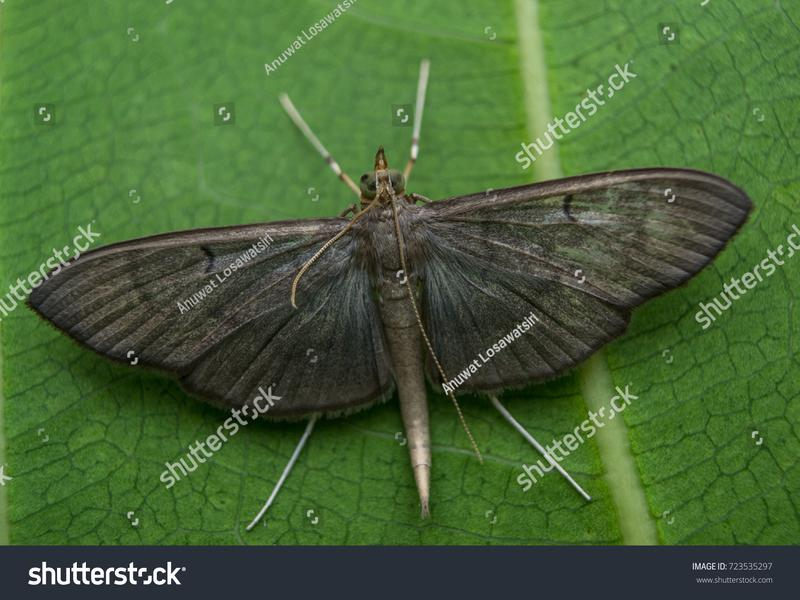Leaf_folder: (28, 144, 759, 447)
